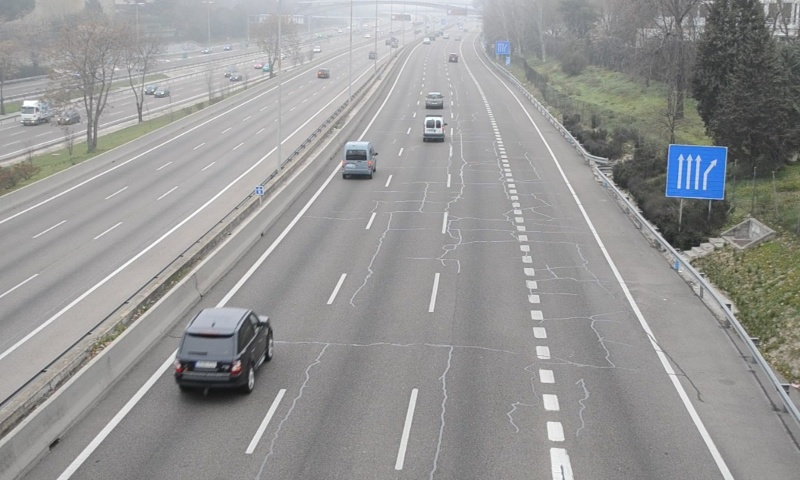car: (174, 308, 272, 390), (423, 91, 444, 109)
van: (343, 141, 377, 176), (422, 114, 445, 141)
